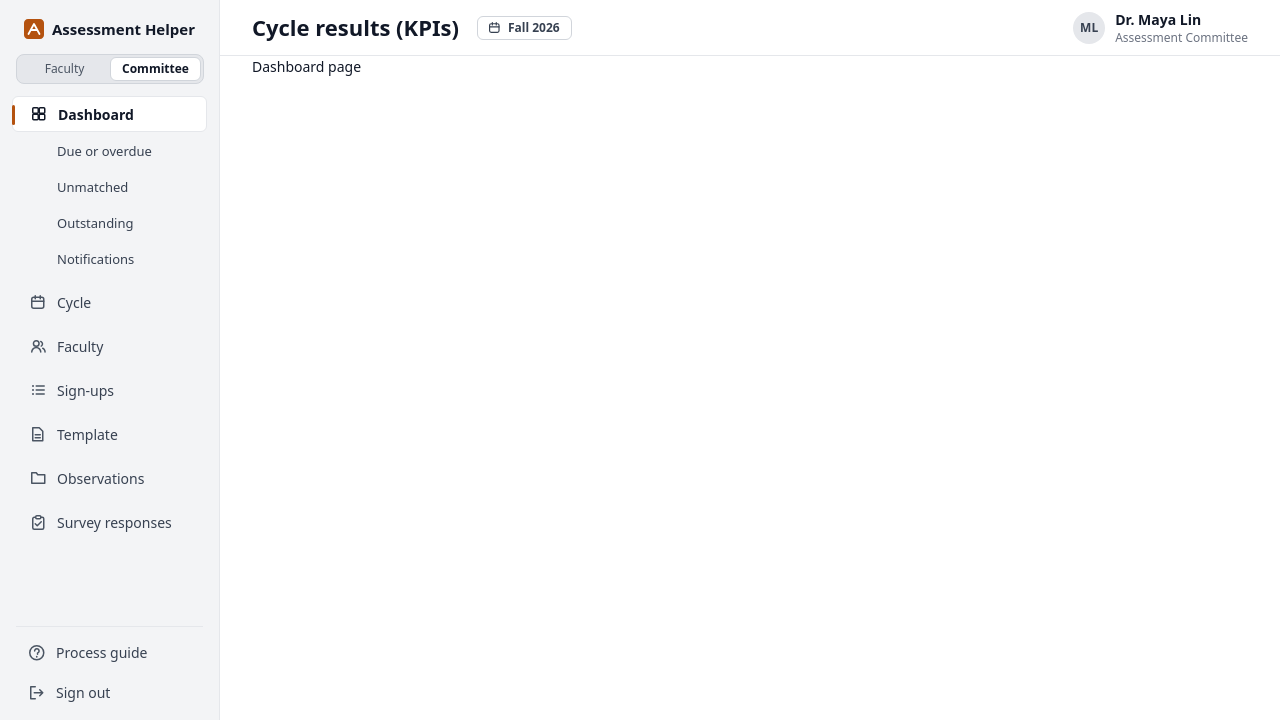
Test: Process guide link in the sidebar › shows in Committee mode and opens the guide
Expected: the text "Dashboard page" is shown, [252, 57, 361, 76]
Expected: the navigation bar named "Assessment Committee" is shown, [0, 96, 219, 540]
Click the link "Process guide": point(88, 652) [29, 643, 148, 662]
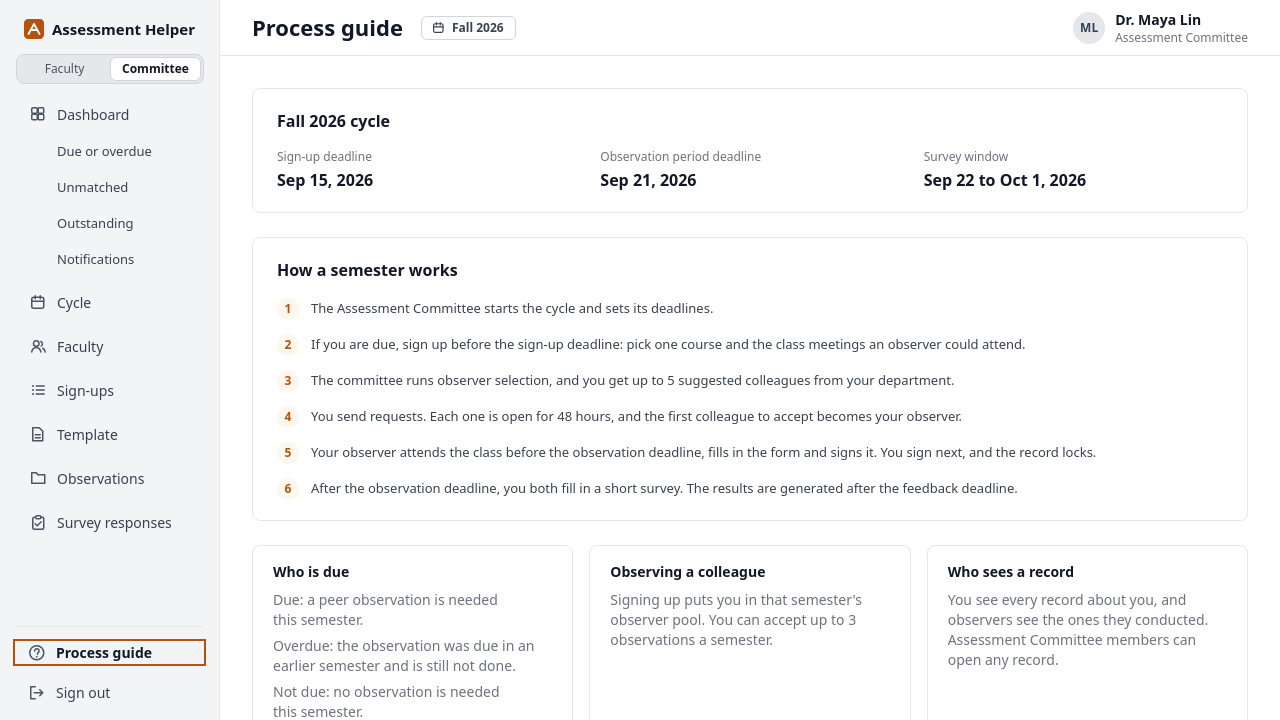
Expected: the heading "How a semester works" is shown, [277, 259, 458, 281]
